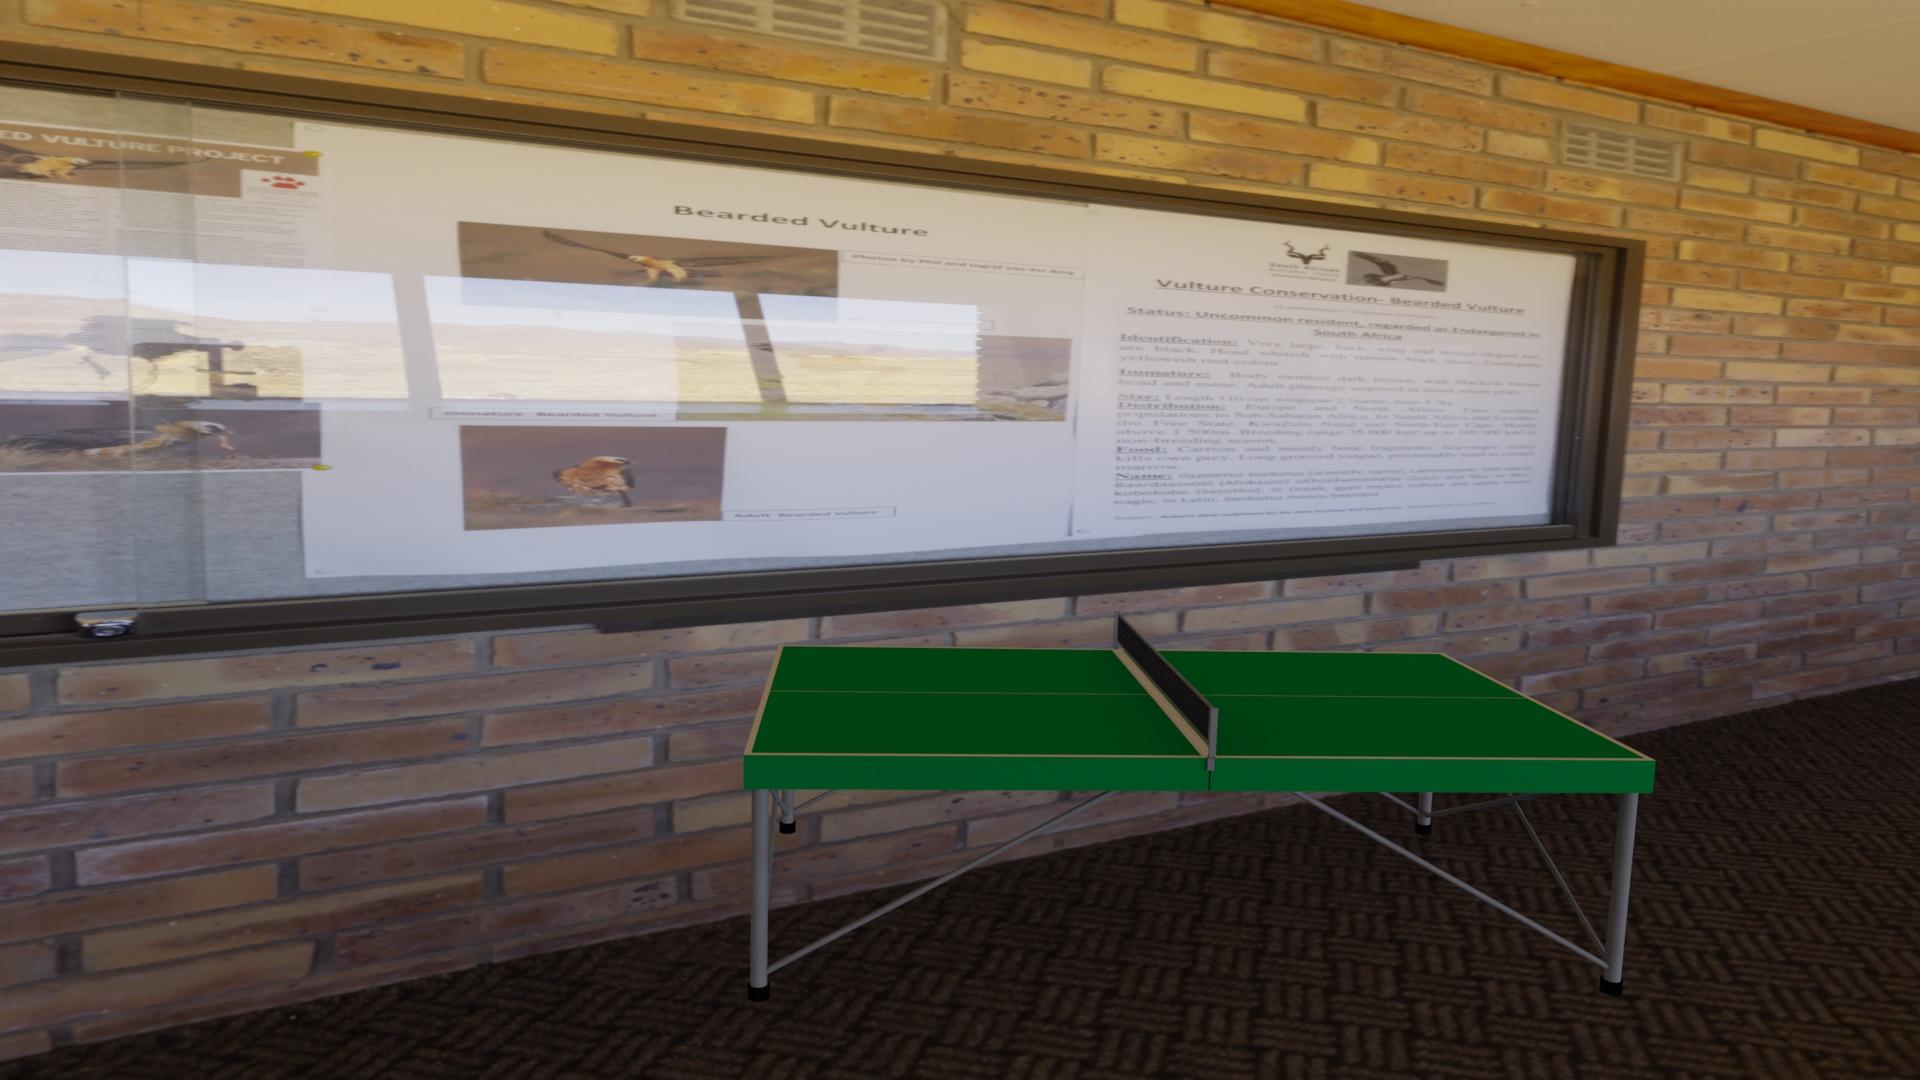table: (752, 646, 1646, 758)
